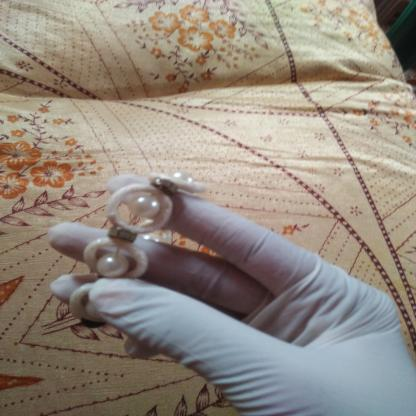gloved_hand: (40, 173, 413, 413)
